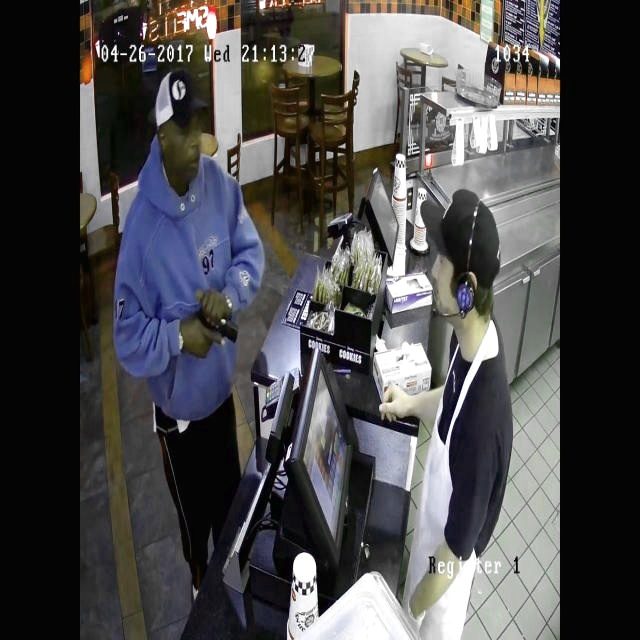gun: (187, 299, 247, 352)
